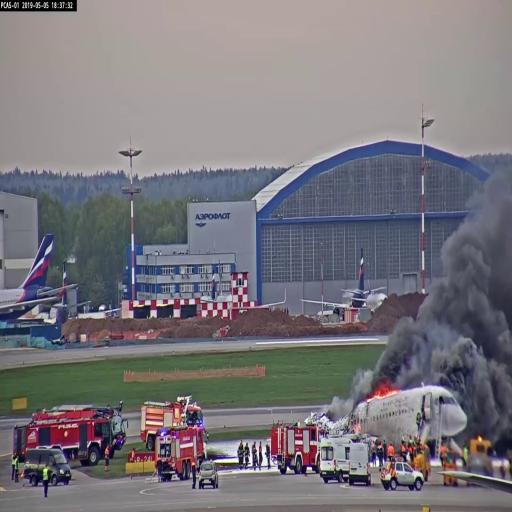smoke: (448, 229, 512, 356), (448, 334, 482, 396), (385, 331, 419, 381)
